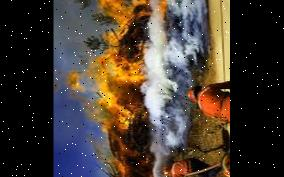fire: (65, 0, 175, 156), (66, 158, 163, 177)
